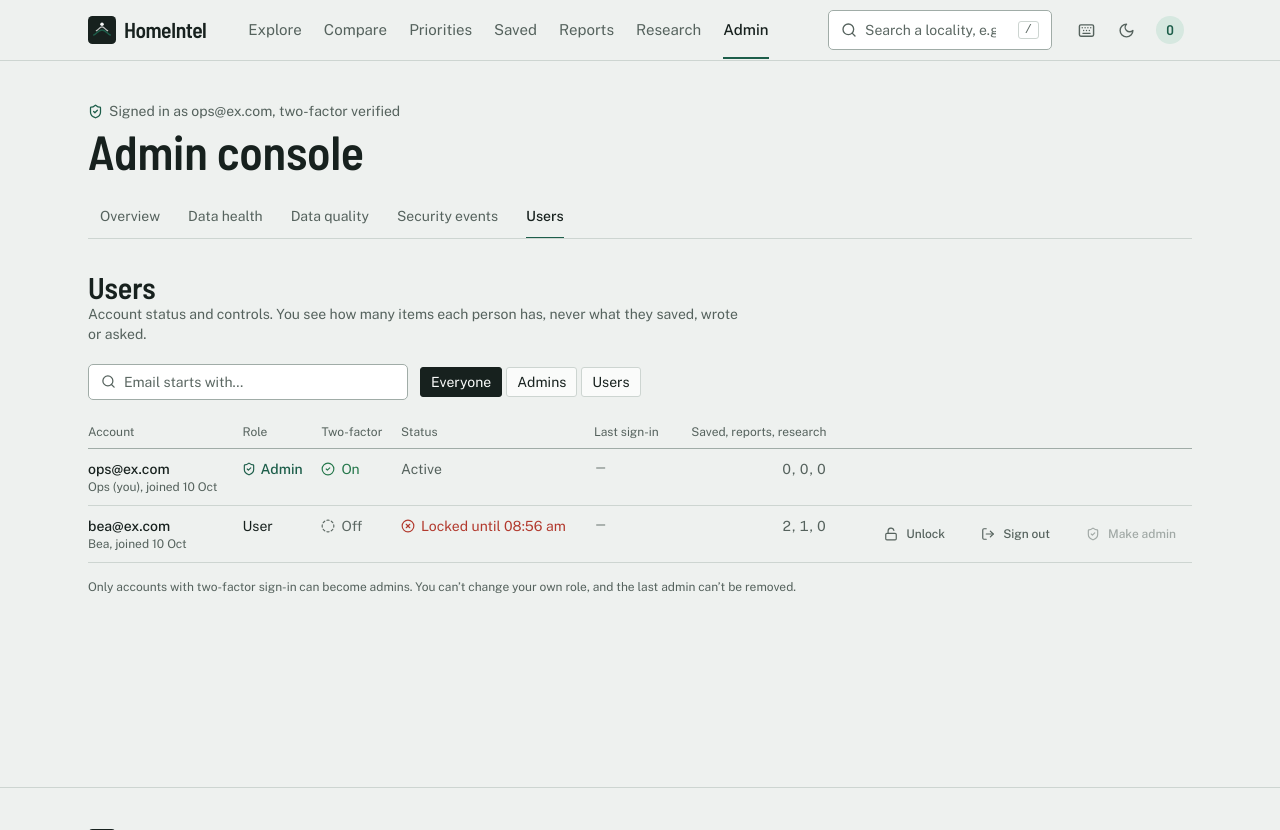
Test: Admin console (UI) › users: "Make admin" is disabled without two-factor; actions confirm before running
The image size is (1280, 830).
expect the button with aria-label "Make bea@ex.com an admin" is disabled: met, box 1070,514 -> 1192,554
Click the button "Unlock".
click(915, 534)  # box 868,514 -> 961,554
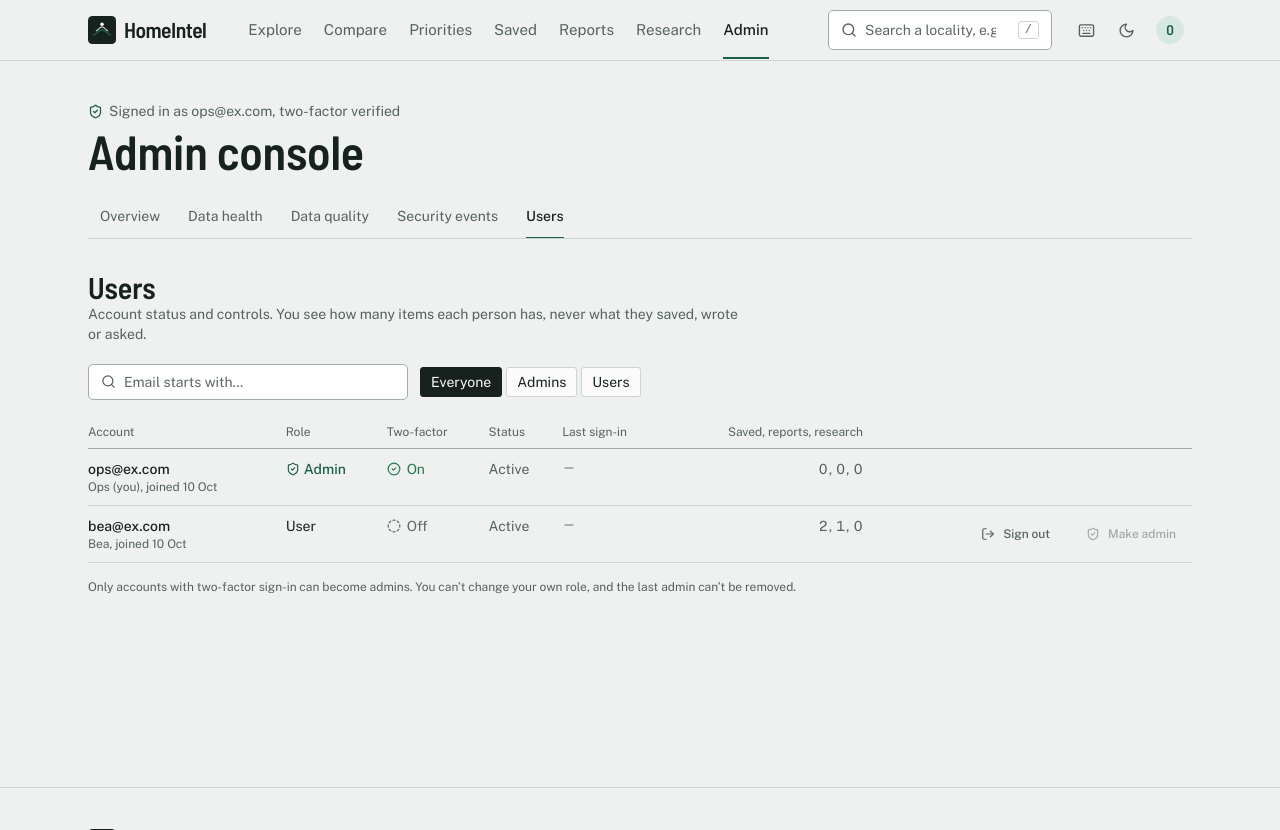
Click the button with aria-label "Sign bea@ex.com out everywhere".
click(1016, 534)  # box 965,514 -> 1066,554
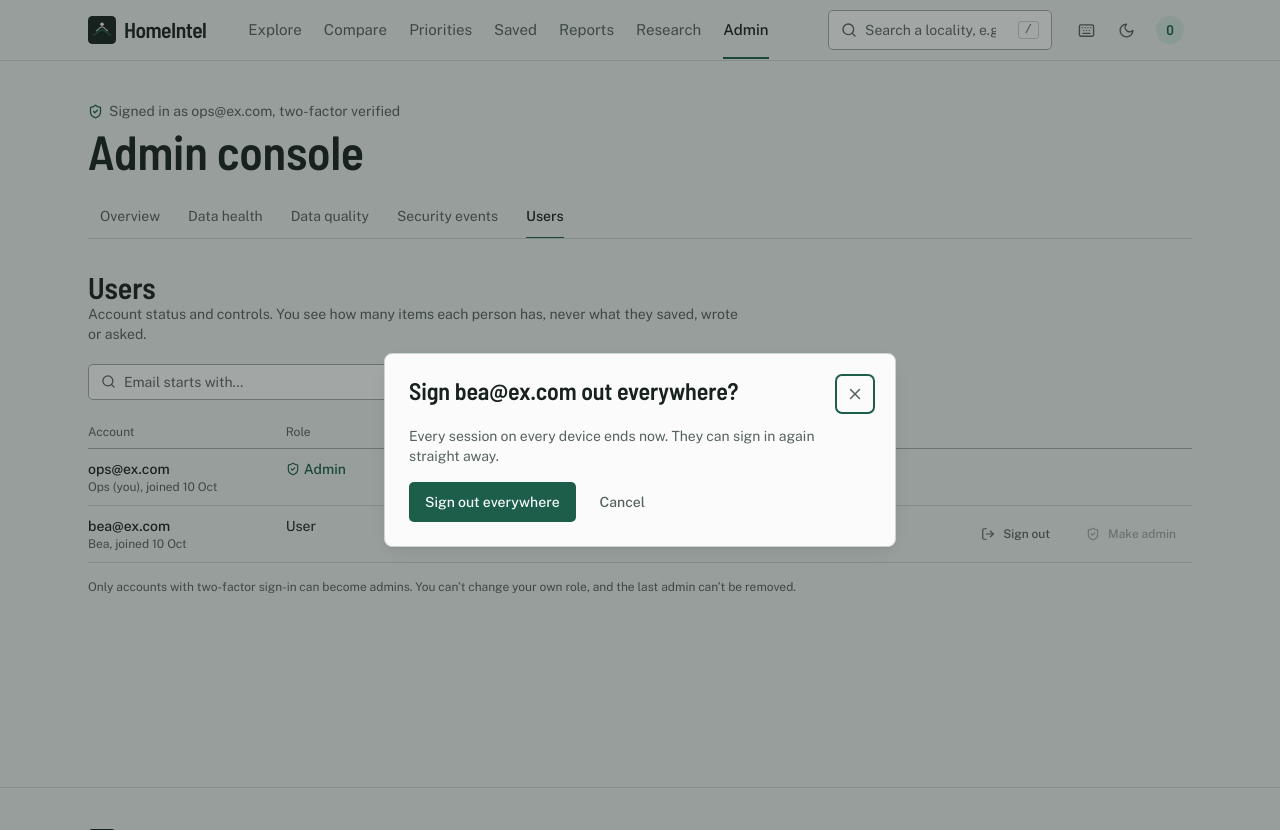
expect the heading "Sign bea@ex.com out everywhere?" is shown: met, box 409,378 -> 738,404
